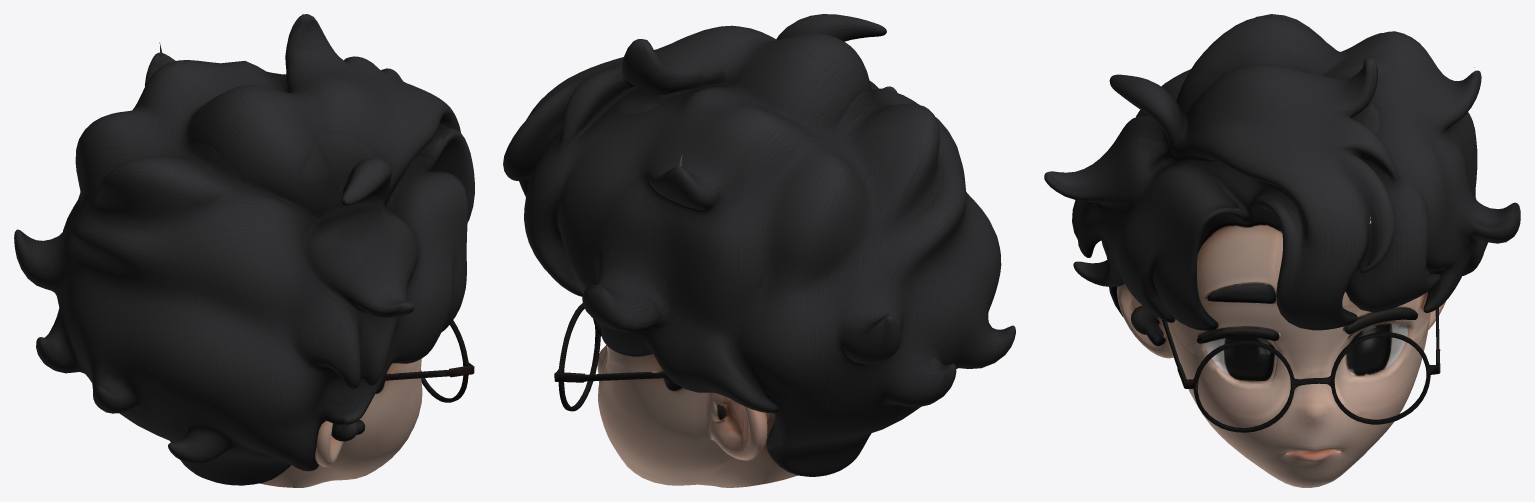
The model's file is headModel-C4Cseox_.glb.
3 renders of one model, left to right at view 1: azimuth 30°, elevation 25°; view 2: azimuth 150°, elevation 25°; view 3: azimuth 270°, elevation 25°, orthographic. The views are drawn at different scales.
Parts seen in each view (by area): view 1: c6bbe3a7-7b52-4339-8e5d-fcfb9d97018f; view 2: c6bbe3a7-7b52-4339-8e5d-fcfb9d97018f; view 3: c6bbe3a7-7b52-4339-8e5d-fcfb9d97018f.
Boxes of the visible parts, <box> form: c6bbe3a7-7b52-4339-8e5d-fcfb9d97018f: <box>14,14,474,487</box>; c6bbe3a7-7b52-4339-8e5d-fcfb9d97018f: <box>503,14,1015,487</box>; c6bbe3a7-7b52-4339-8e5d-fcfb9d97018f: <box>1044,14,1520,487</box>.
Size of the model in its own units: 0.9673 by 0.9731 by 0.9995.
1 material, 1 textured.
